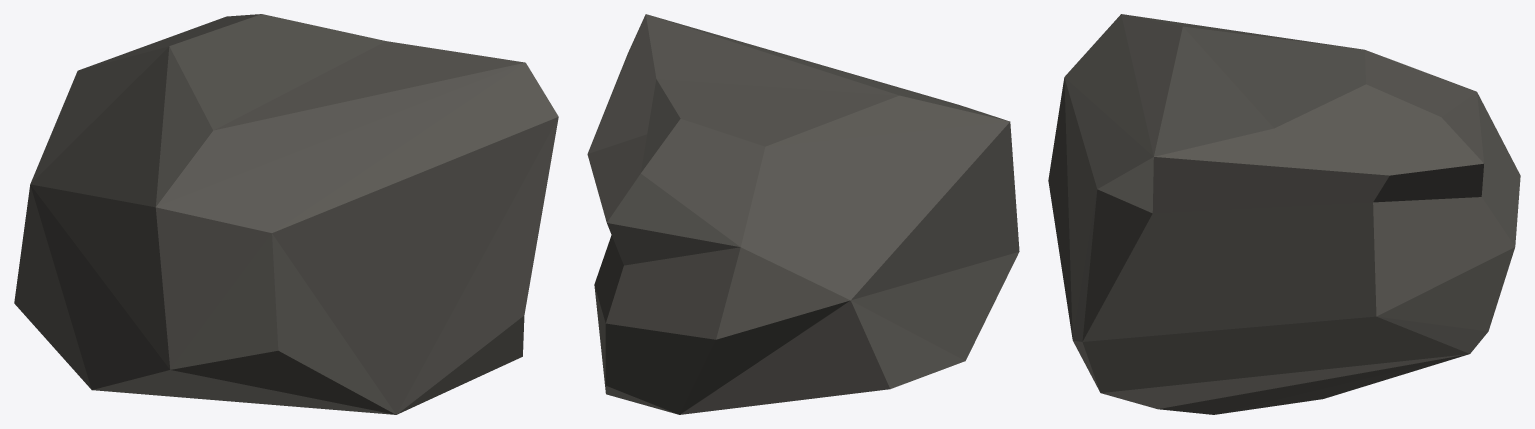
File: env_rock_big.gltf
3 views of the same model, side by side, from view 1: azimuth 30°, elevation 25°; view 2: azimuth 150°, elevation 25°; view 3: azimuth 270°, elevation 25° (orthographic). The views are drawn at different scales.
Parts seen in each view (by area): view 1: env_rock_big; view 2: env_rock_big; view 3: env_rock_big.
Boxes of the visible parts, box(x1,y1,x2,y2) form: env_rock_big: box(14, 14, 558, 414); env_rock_big: box(587, 14, 1019, 414); env_rock_big: box(1048, 14, 1520, 414).
Size of the model in its own units: 0.3874 by 0.288 by 0.4046.
Materials: 1 (1 with a texture image).
